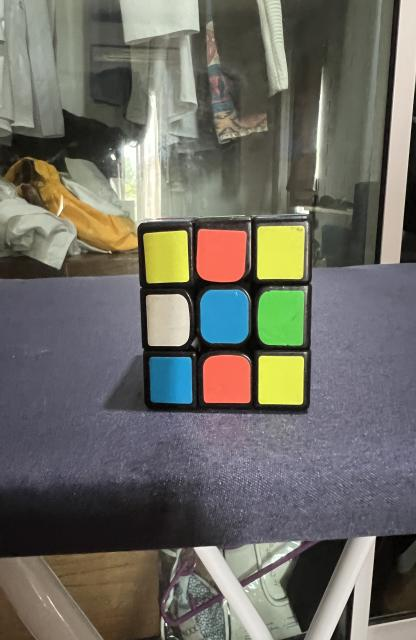Blue: (200, 289, 249, 344), (150, 356, 193, 404)
Green: (258, 290, 304, 346)
Orange: (196, 229, 247, 282), (203, 355, 250, 404)
White: (146, 294, 190, 346)
Yellow: (257, 225, 304, 280), (143, 230, 190, 284), (258, 355, 304, 405)
